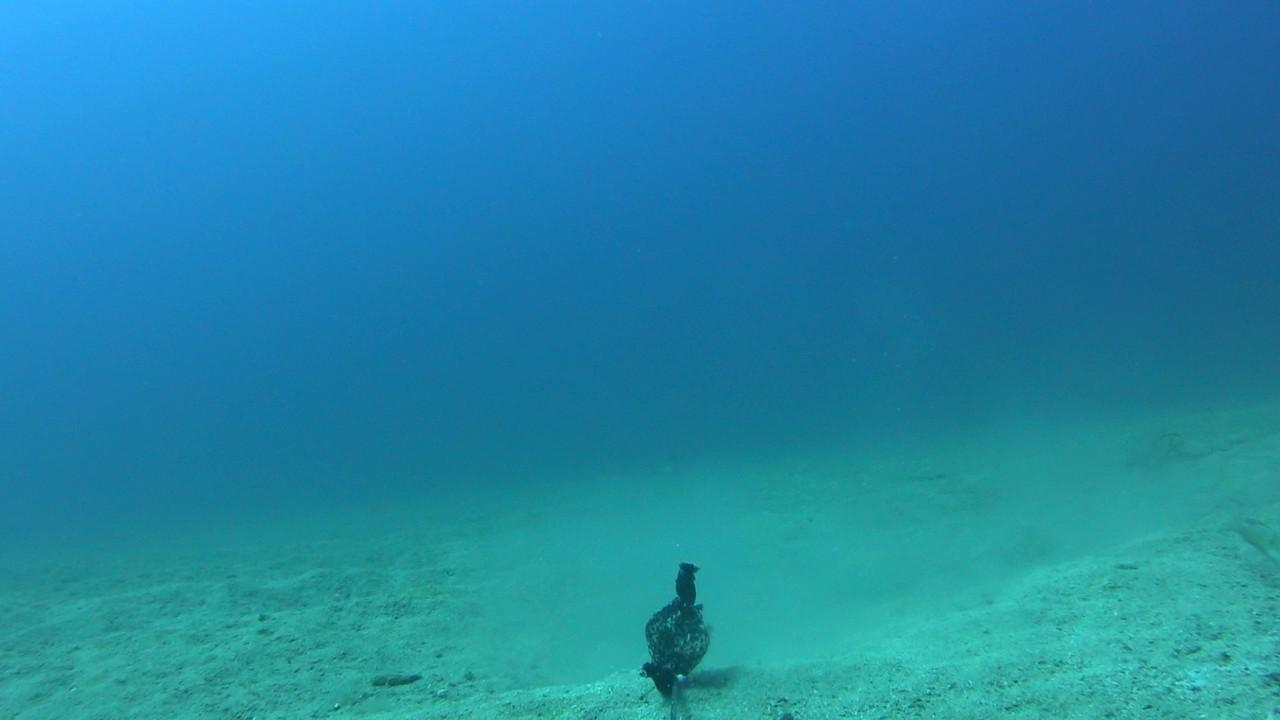myliobatis: (641, 456, 712, 478)
